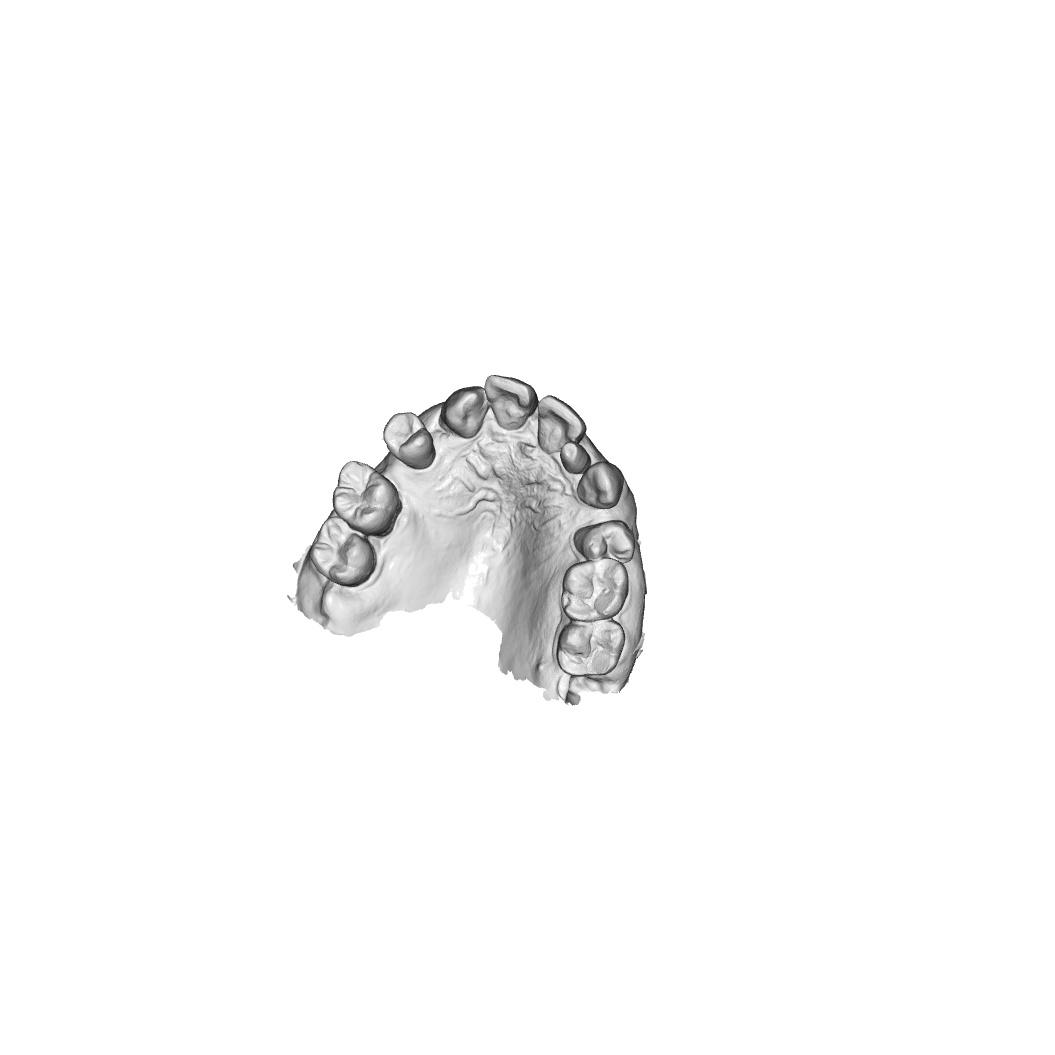canine: (576, 459, 626, 510), (442, 385, 486, 439)
crown: (559, 441, 593, 475)
incisor: (484, 374, 539, 432), (537, 394, 588, 454)
molar: (330, 460, 402, 538), (308, 514, 377, 590), (560, 557, 630, 623), (555, 618, 626, 677)
premolar: (382, 411, 437, 471), (573, 519, 636, 563)
